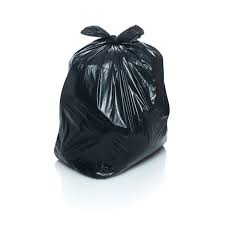Trash: (40, 18, 180, 184)
